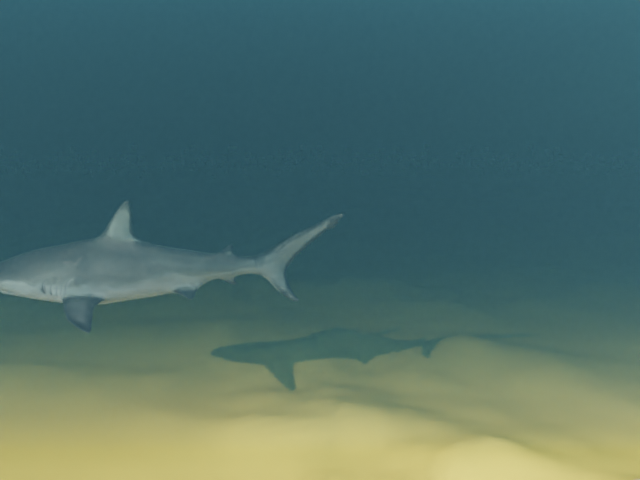Carribean Shark.001: (0, 200, 344, 333)
